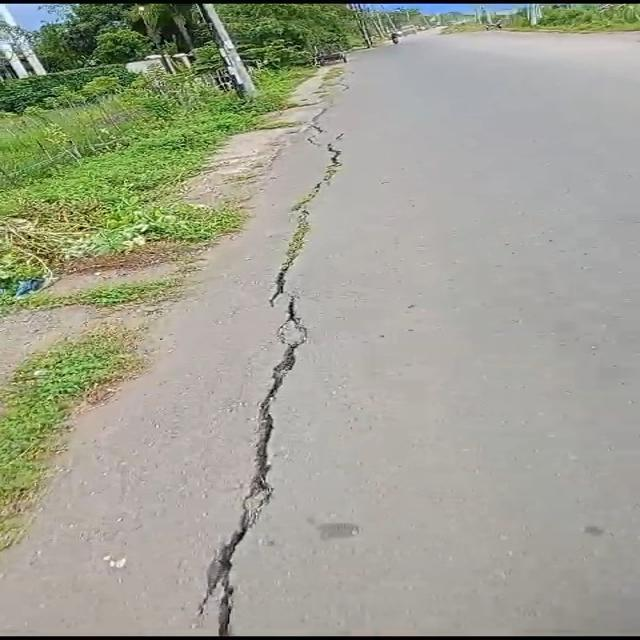Memanjang: (206, 130, 360, 640)
